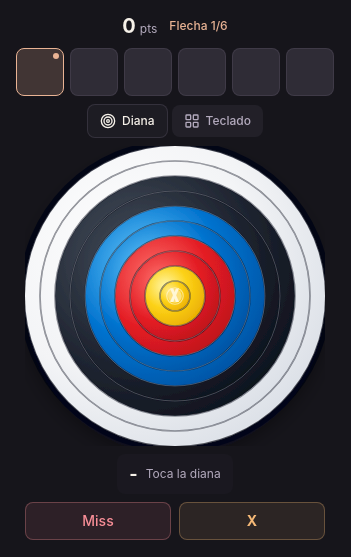
EndInput › score flow from ScoreNumpad › handles X (10 gold) in numpad mode
The image size is (351, 557).
What coordinates should you click on to do the following:
click the radio button labelled "Teclado"
I would click on:
 (217, 121)
Its box is [172,105,263,137].
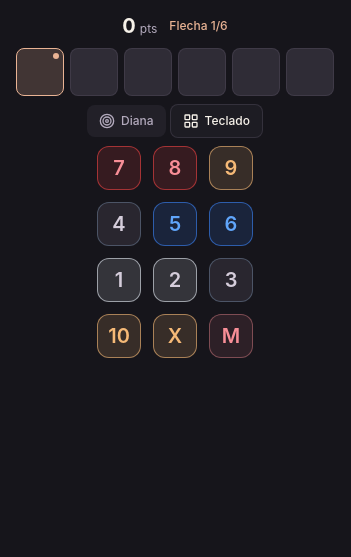
What coordinates should you click on to do the following:
click the button named "diez de oro"
I would click on:
 (175, 336)
Its box is [153,314,197,358].
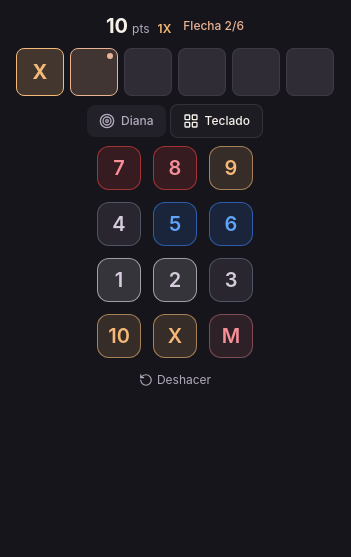
Result: the button named "flecha" reads "X" at [16,48,64,96]
